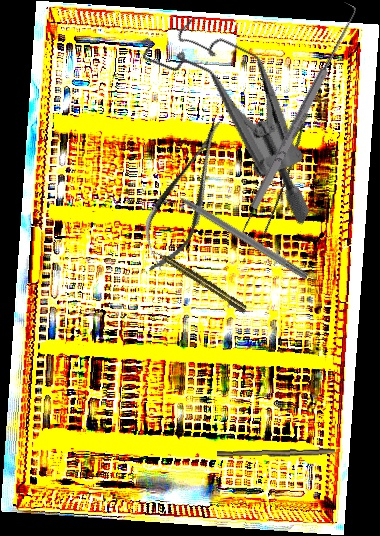Handpiece: (150, 246, 250, 315)
Hook Surgical: (240, 0, 363, 212), (163, 183, 310, 281)
Micro Scissor: (126, 109, 244, 282)
Scalpel Handle: (216, 446, 336, 461)
Speculum: (100, 2, 364, 227)
Tissue Forceps: (237, 112, 328, 246)
